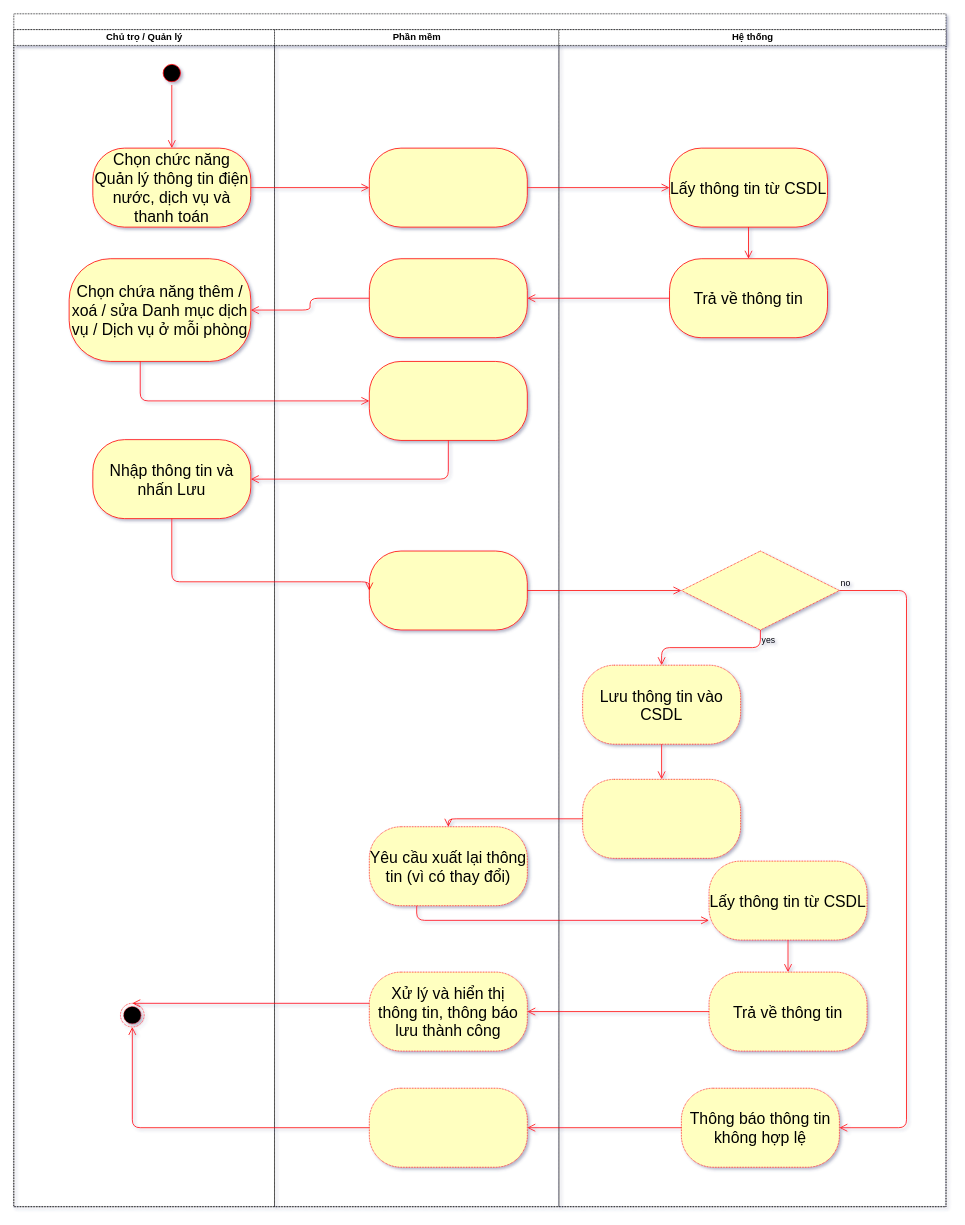
The diagram is 965 pixels wide and 1225 high, and some of its shapes have lost their labels. Here are the shapes that lost their labels. From the top down, the centre of each, then its label:
At point (448, 187): "Yêu cầu thông tin".
At point (448, 298): "Tiếp nhận và xử lý, hiển thị thông tin".
At point (448, 400): "Hiển thị form thông tin chi tiết của Dịch vụ / Dịch vụ ở mỗi phòng".
At point (448, 590): "Yêu cầu lưu thông tin".
At point (760, 590): "Kiểm tra hợp lệ thông tin".
At point (661, 818): "Thông báo lưu thành công".
At point (448, 1127): "Thông báo lưu thất bại".
